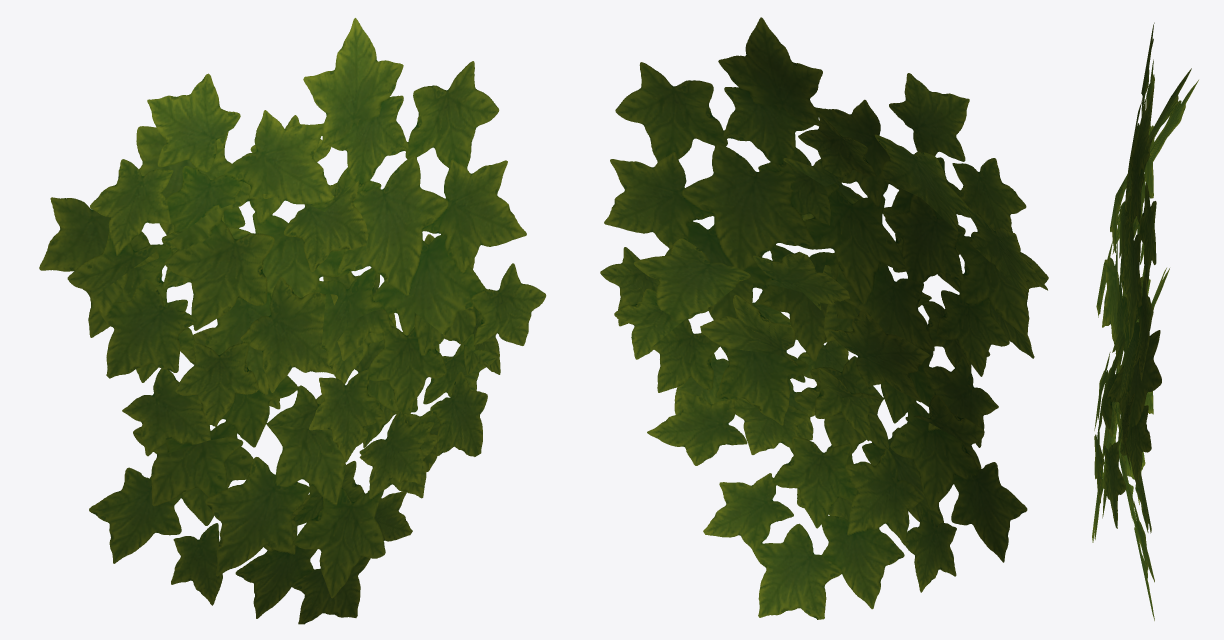
Rendered from MSH_fwOF_Ivy_02.fbx.
3 views of the same model, side by side, from view 1: azimuth 30°, elevation 25°; view 2: azimuth 150°, elevation 25°; view 3: azimuth 270°, elevation 25° (orthographic). The views are drawn at different scales.
Visible parts, largest first — view 1: MSH_fwOF_Ivy_02_LOD0; view 2: MSH_fwOF_Ivy_02_LOD0; view 3: MSH_fwOF_Ivy_02_LOD0.
Boxes of the visible parts, <box> form: MSH_fwOF_Ivy_02_LOD0: <box>39,18,546,624</box>; MSH_fwOF_Ivy_02_LOD0: <box>600,17,1048,619</box>; MSH_fwOF_Ivy_02_LOD0: <box>1092,22,1198,620</box>.
Size of what is drawn, in the model's own units: 0.6118 by 0.7157 by 0.1436.
